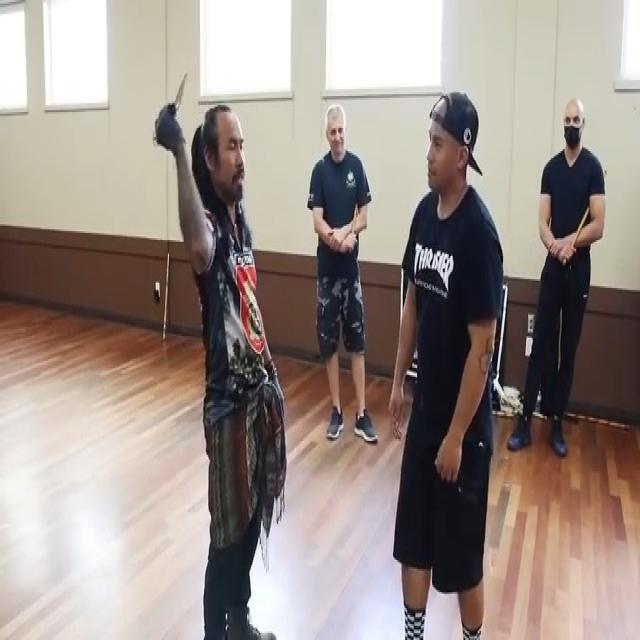Sharp-Object: (144, 65, 187, 161)
